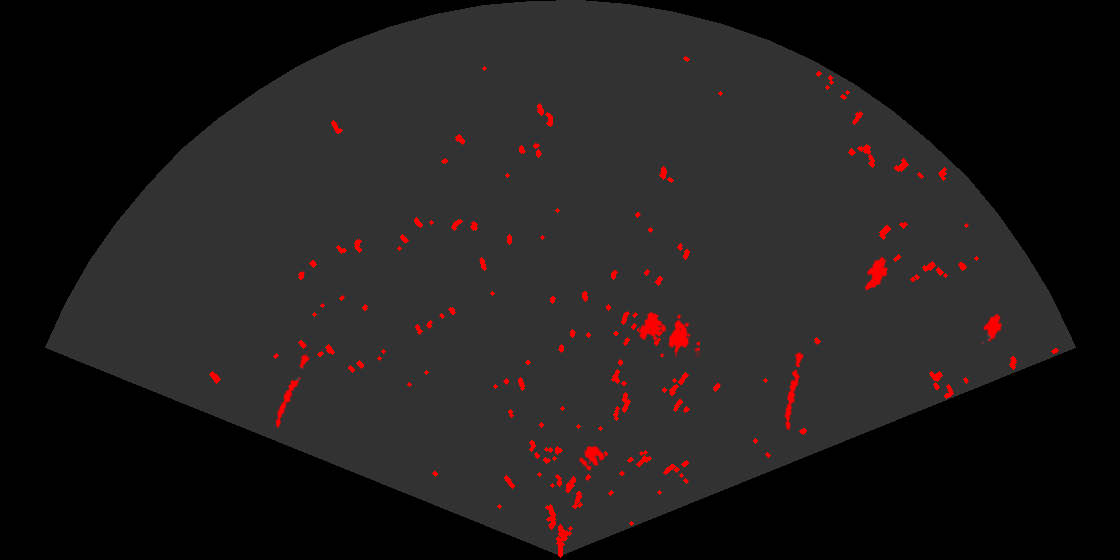AUV: (863, 255, 889, 292), (979, 312, 1004, 346)
ball: (577, 444, 606, 472)
cage: (637, 310, 700, 357)
chain: (274, 346, 312, 430), (783, 348, 805, 432)
